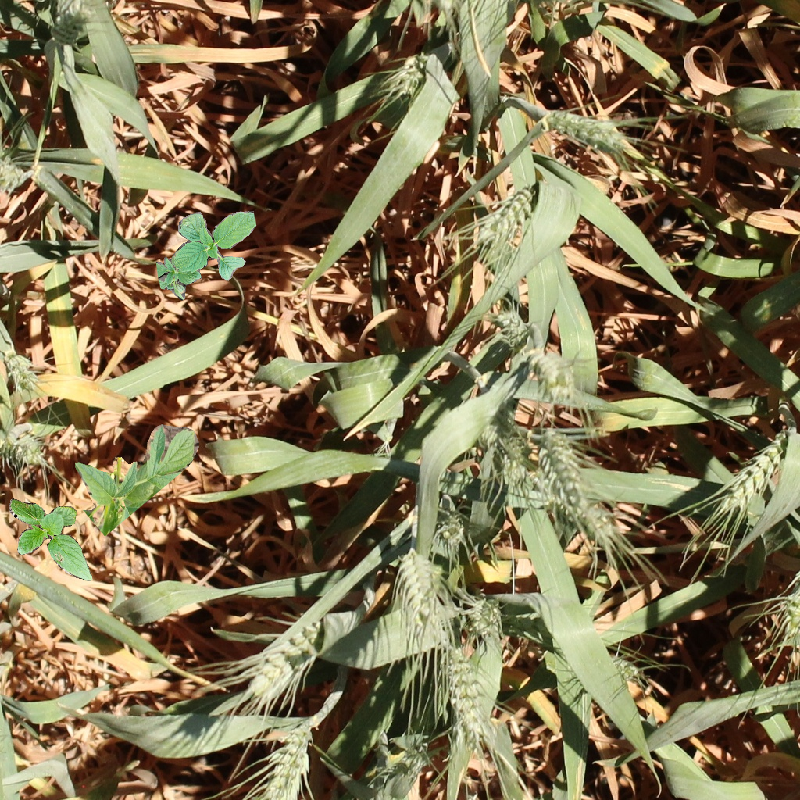spikelet: (535, 424, 619, 546), (716, 427, 797, 515), (243, 616, 324, 703), (437, 642, 490, 740), (256, 716, 315, 799), (538, 425, 589, 521), (362, 731, 432, 798), (394, 545, 450, 627), (472, 182, 536, 249), (543, 107, 629, 152), (1, 420, 58, 469), (380, 51, 433, 99), (531, 345, 580, 394), (47, 1, 96, 48), (1, 346, 42, 395), (464, 593, 506, 640), (433, 507, 469, 550), (493, 307, 531, 346), (606, 649, 644, 685), (1, 145, 28, 194)
weed: (71, 420, 199, 537), (148, 202, 267, 304), (2, 502, 95, 583)
